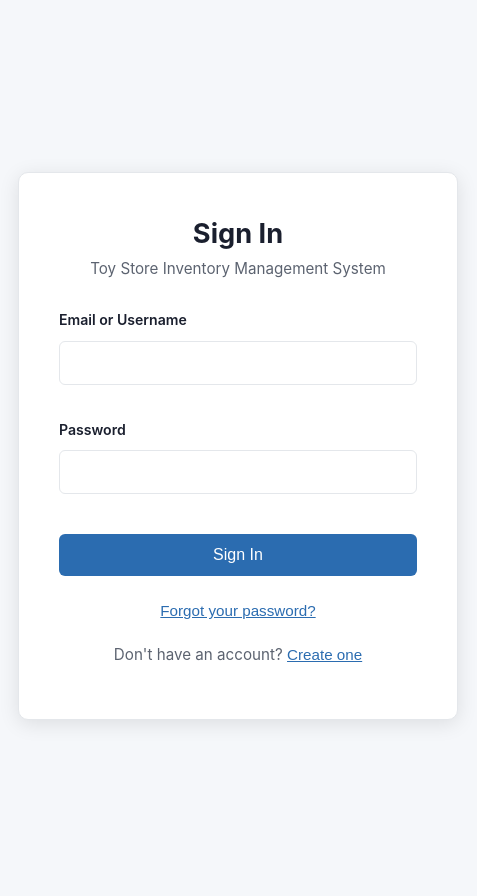
Test: Login Page › shows password requirements checklist during registration
This screenshot has width=477, height=896.
Click the button "Create one".
click(325, 655)  # box 287,646 -> 362,663
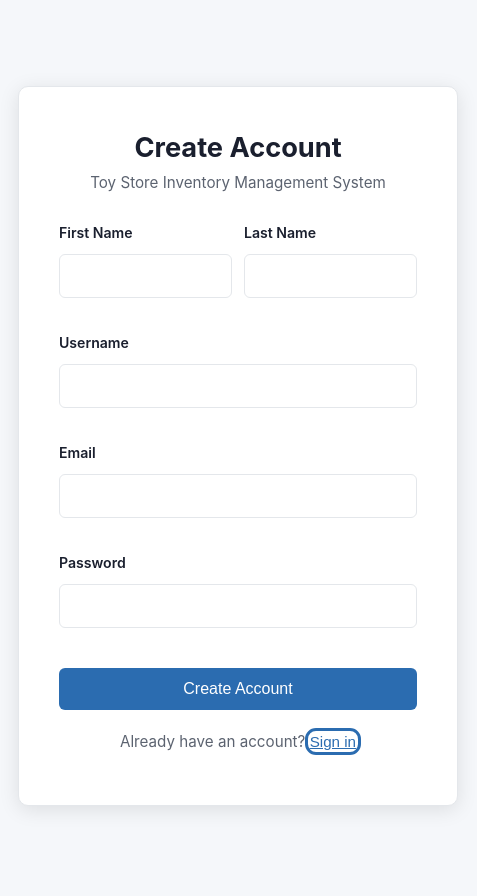
Expected: the text "at least 8 characters" is not shown
Start typing a password
Type "a" into the password field labelled "Password".
click(238, 606); type("a")  # box 59,584 -> 417,628
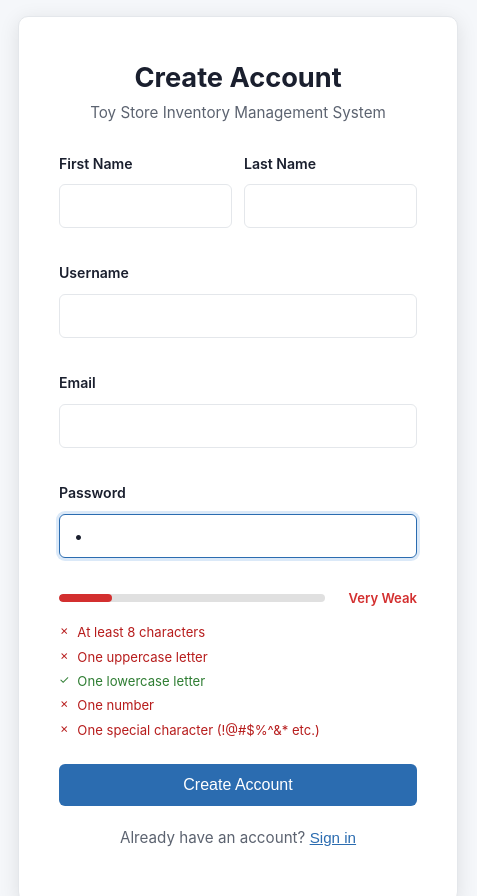
Now the list item "At least 8 characters" is shown, box 77,624 -> 205,640
Now the list item "One uppercase letter" is shown, box 77,648 -> 208,664
Now the list item "One lowercase letter" is shown, box 77,673 -> 205,689
